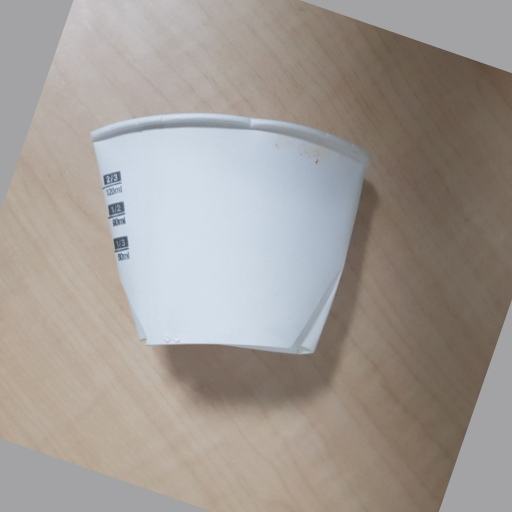Paper_1: (90, 107, 373, 359)
